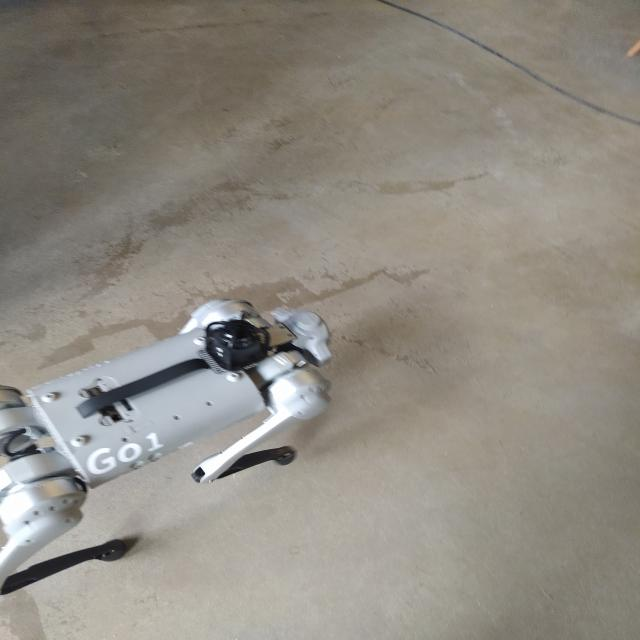unitree-go1-robot: (1, 296, 326, 606)
